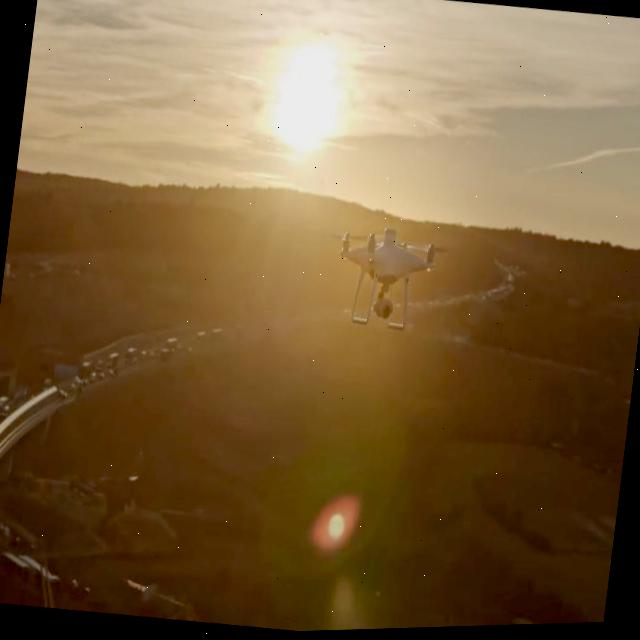drone: (314, 216, 452, 343)
